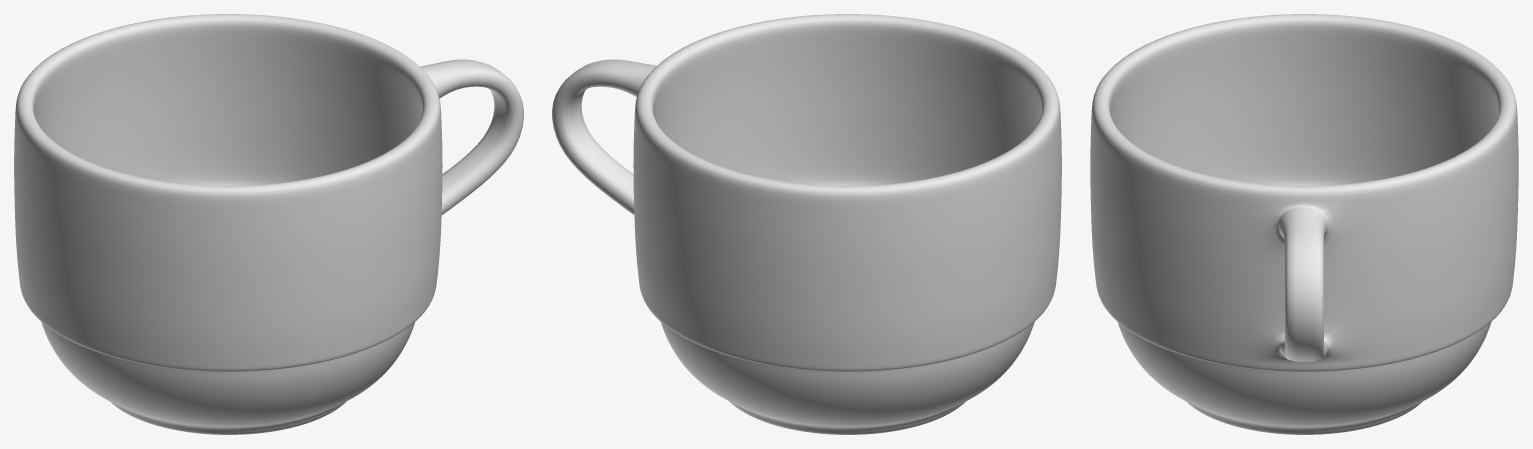
File: putih2.glb
3 renders of one model, left to right at view 1: azimuth 30°, elevation 25°; view 2: azimuth 150°, elevation 25°; view 3: azimuth 270°, elevation 25°, orthographic.
Parts seen in each view (by area): view 1: Cup; view 2: Cup; view 3: Cup.
Part boxes in pixels (left/top/right/bottom): Cup: left=14, top=14, right=523, bottom=434; Cup: left=552, top=14, right=1061, bottom=434; Cup: left=1090, top=14, right=1518, bottom=434.
Bounding box in the file's own units: 0.1858 × 0.1053 × 0.1452.
Materials: 1 (1 with a texture image).
